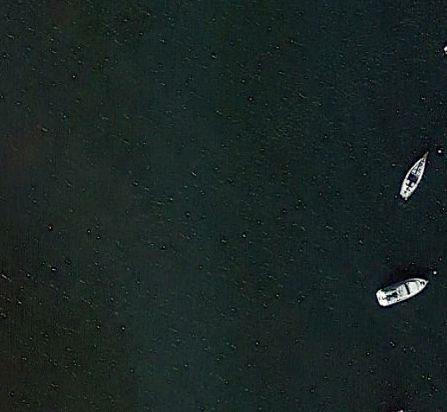boat: (375, 276, 433, 307), (399, 150, 432, 201)
